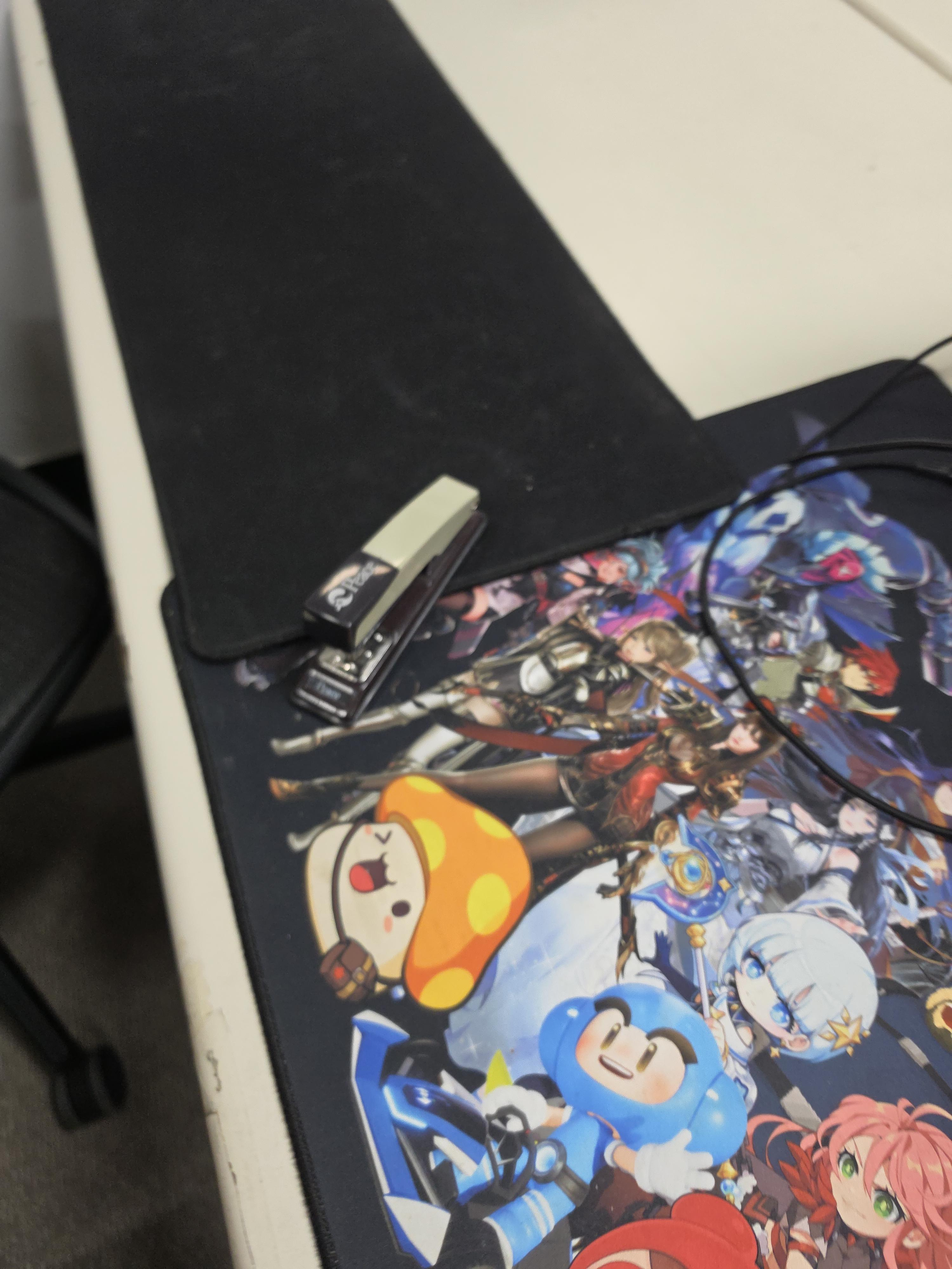stapler: (289, 473, 490, 726)
